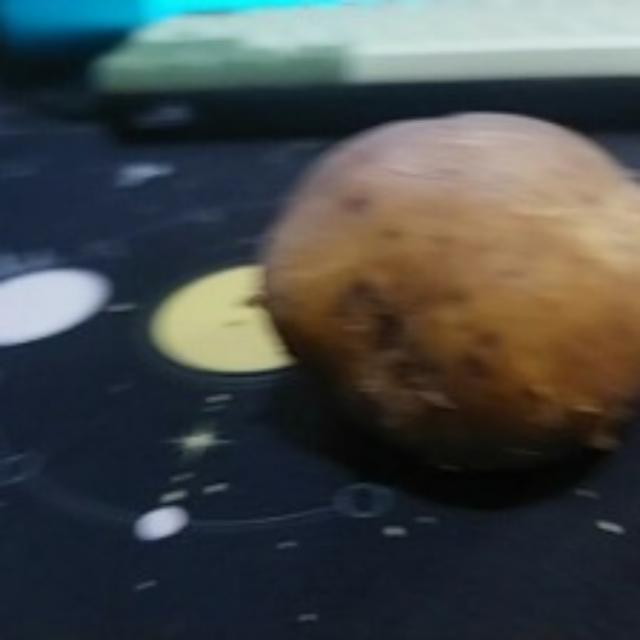Damaged potato: (278, 108, 640, 506)
